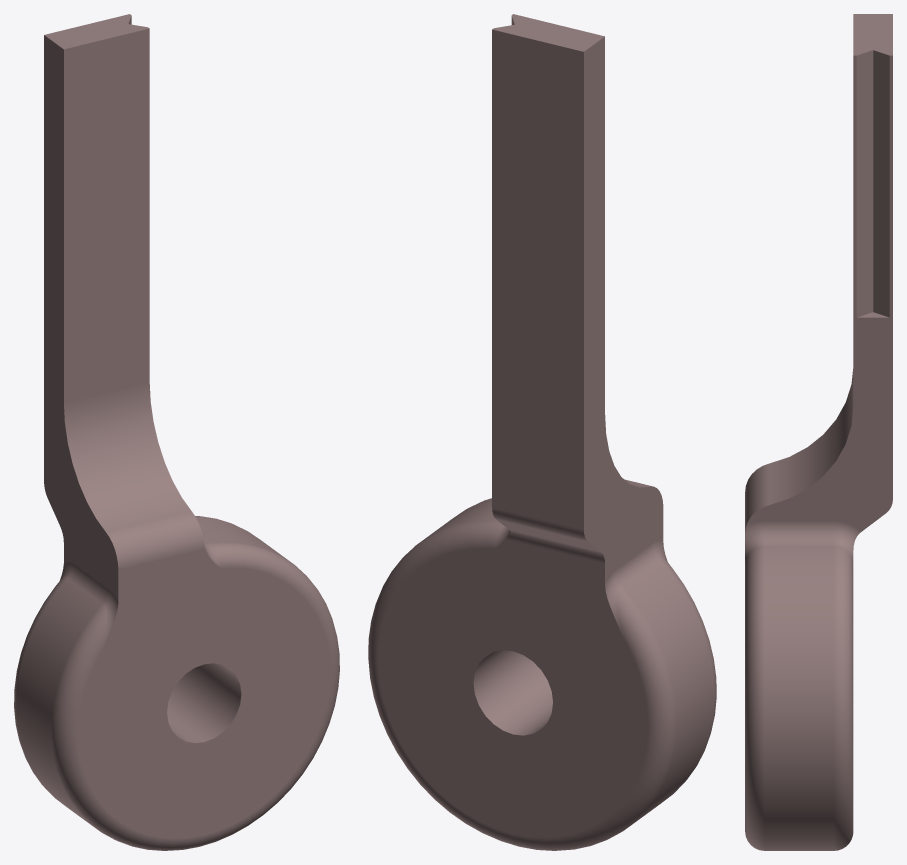
Rendered from tool_wrist_sca_link_2.dae.
3 views of the same model, side by side, from view 1: azimuth 30°, elevation 25°; view 2: azimuth 150°, elevation 25°; view 3: azimuth 270°, elevation 25° (orthographic). The views are drawn at different scales.
Visible parts, largest first — view 1: Actor0; view 2: Actor0; view 3: Actor0.
Part boxes in pixels (x1,y1,x2,y2): Actor0: (14,14,339,850); Actor0: (368,14,716,850); Actor0: (745,14,892,850).
Bounding box in the file's own units: 0.005 × 0.0131 × 0.00225.
